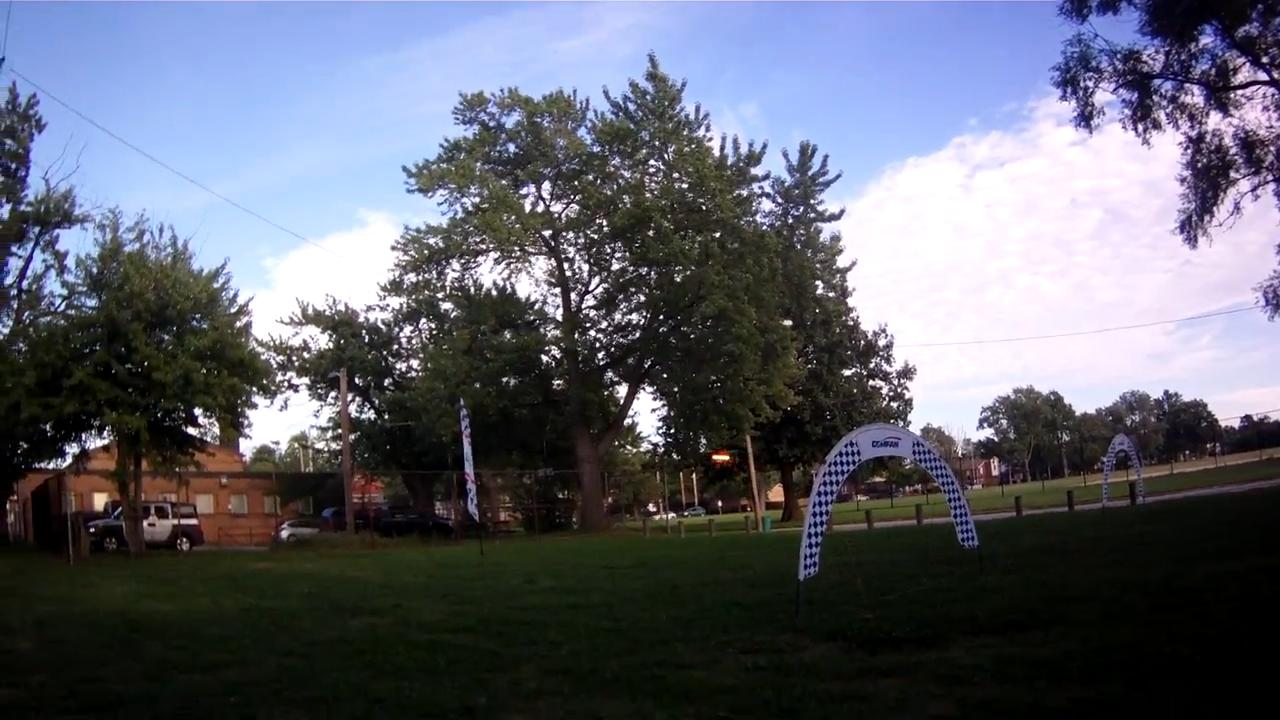gate: (792, 422, 979, 582)
